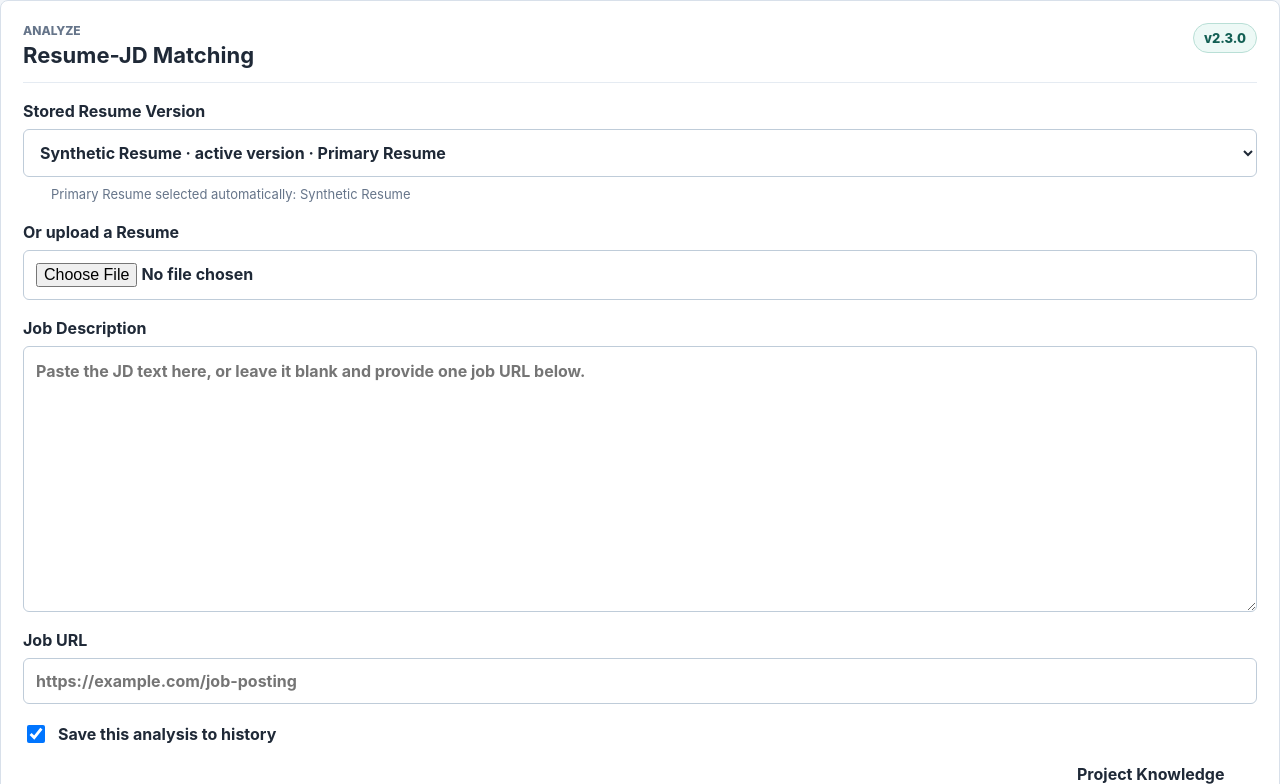
Test case: Version 2.0.1 simplified workspace › shows usable results for fallback analysis
This screenshot has width=1280, height=784.
Replace the text in the text box labelled "Job Description" with "Synthetic FastAPI role": coordinates (640, 479) top-left (23, 346), bottom-right (1257, 612)
(page scrolled)
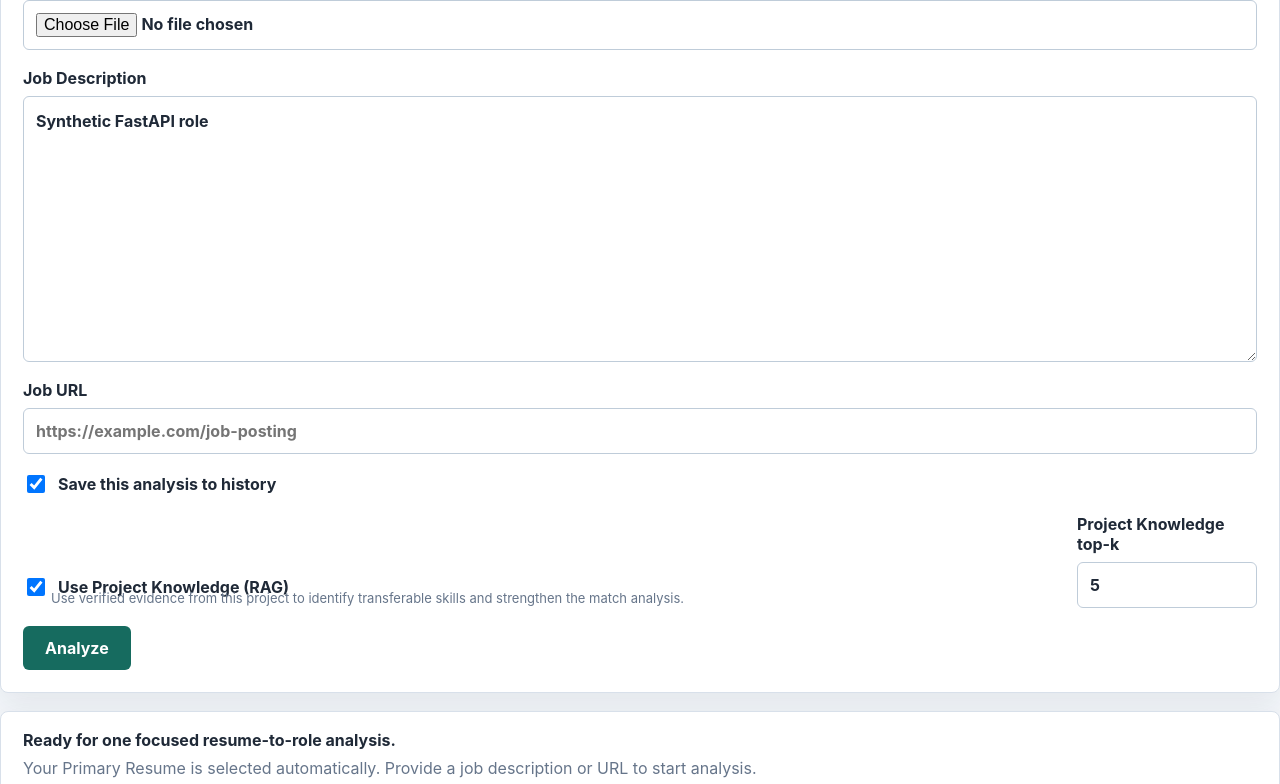
Click the button "Analyze": coordinates (77, 648) top-left (23, 626), bottom-right (131, 670)
(page scrolled)
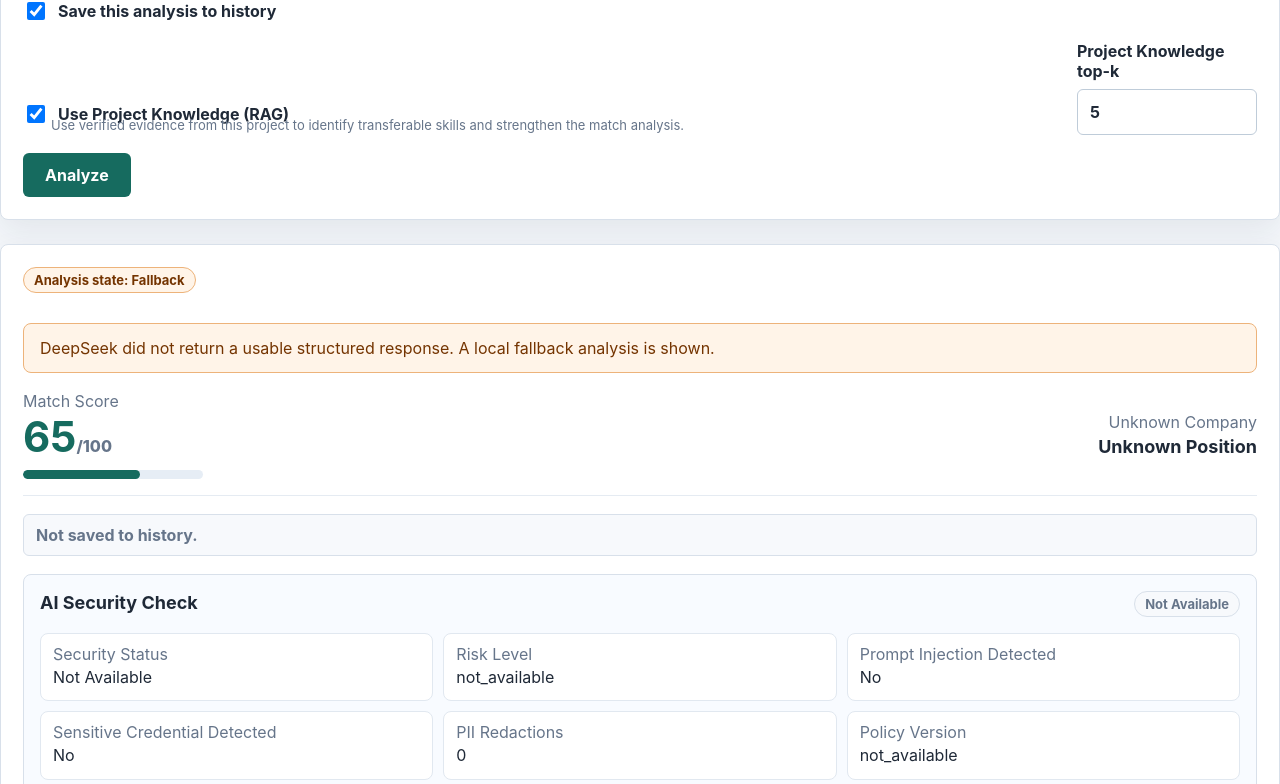
Expected: the button "Analyze" is enabled, top-left (23, 153), bottom-right (131, 197)
Expected: the text "local fallback analysis is shown" is shown, top-left (40, 338), bottom-right (715, 358)
Expected: the text "Match Score" is shown, top-left (23, 391), bottom-right (119, 411)
